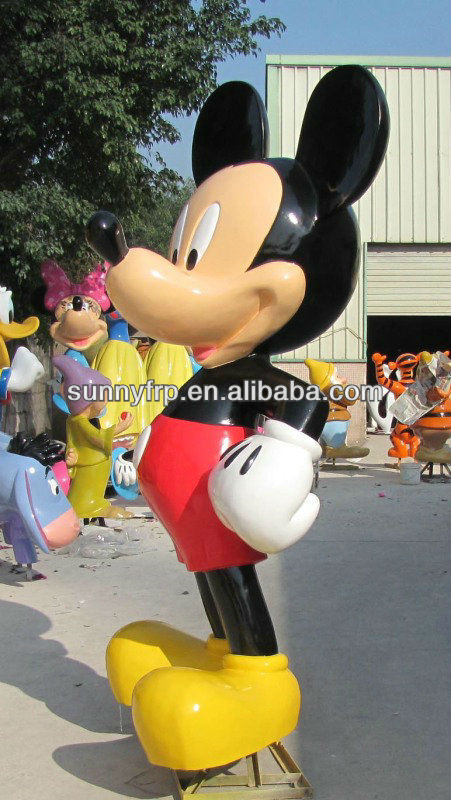Mickey: (78, 59, 392, 370)
